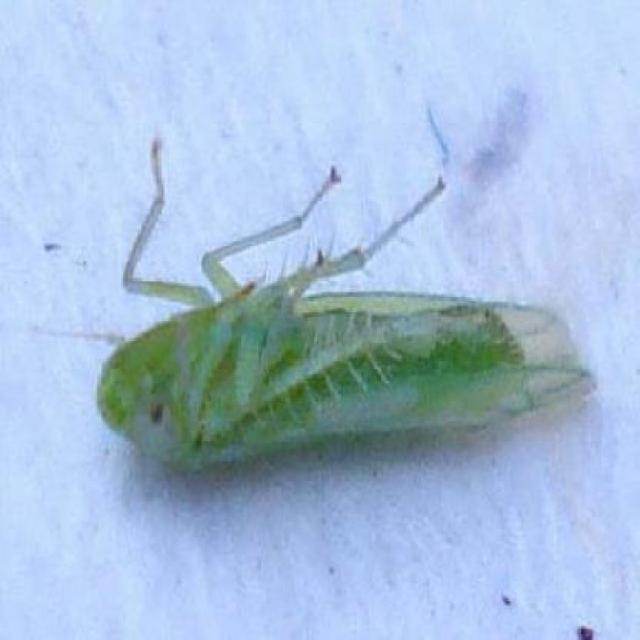green-leafhopper: (103, 242, 579, 466)
